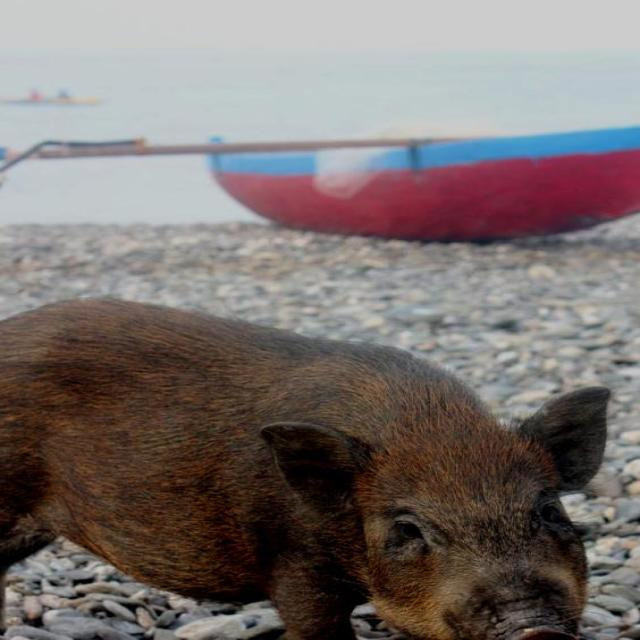pig: (4, 301, 609, 640)
